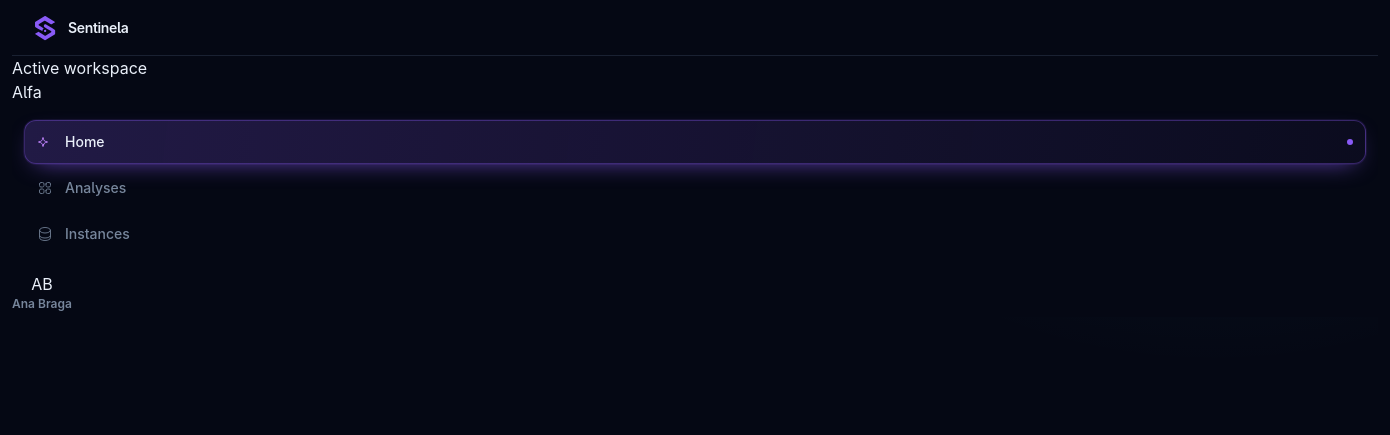
Test case: M25 · 2. o papel não vira texto › nem depois de abrir a lista de workspaces
The image size is (1390, 435).
Click the button with aria-label "Switch workspace": [27, 92] box x1=12 y1=80 x2=42 y2=104
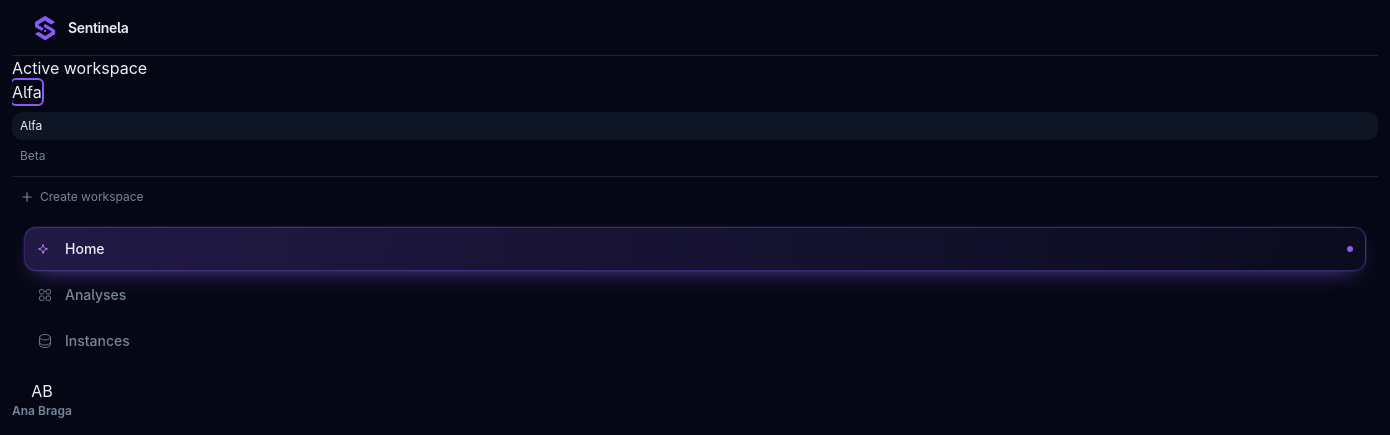
Expected: the option "Beta" is shown, x1=12 y1=142 x2=1378 y2=170
